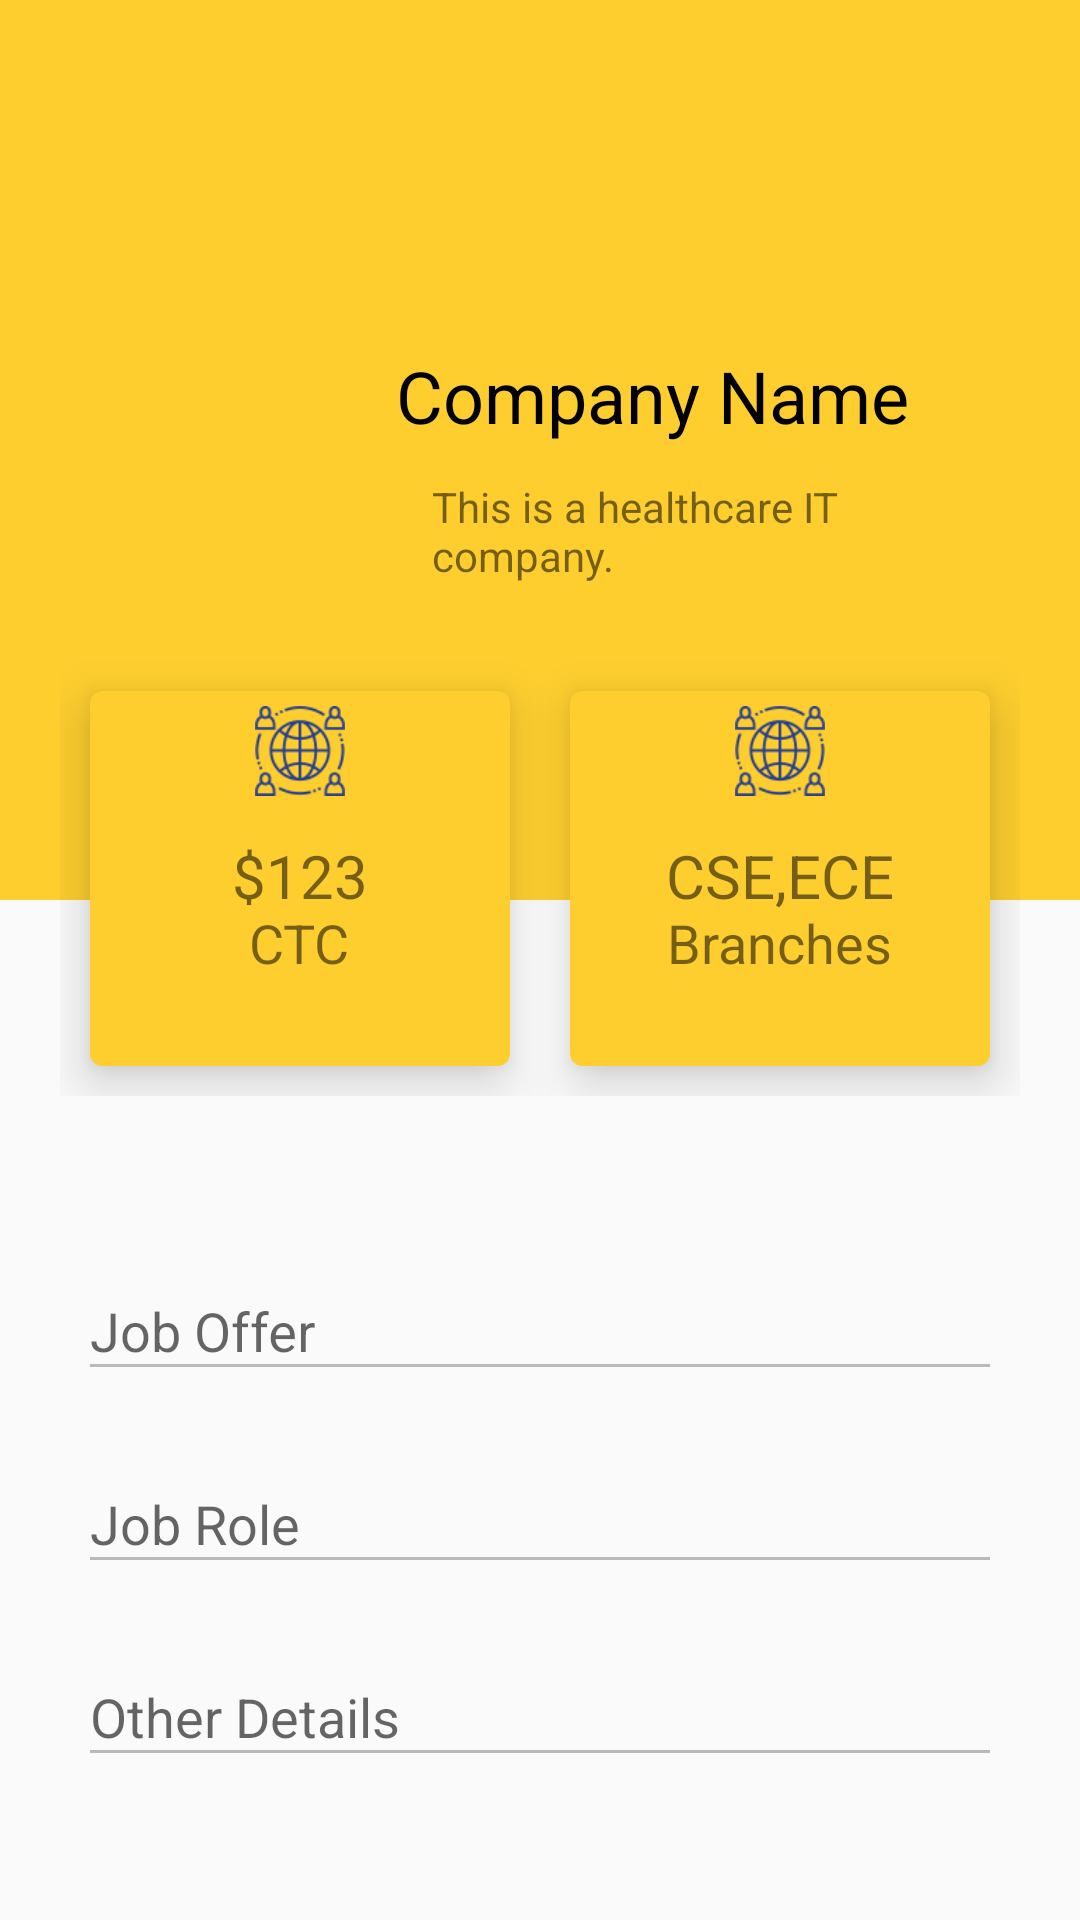

Named icons in this screenshot (1080*1920) and their centers, [x,y]:
outsourcing: [300,751], [780,751]
